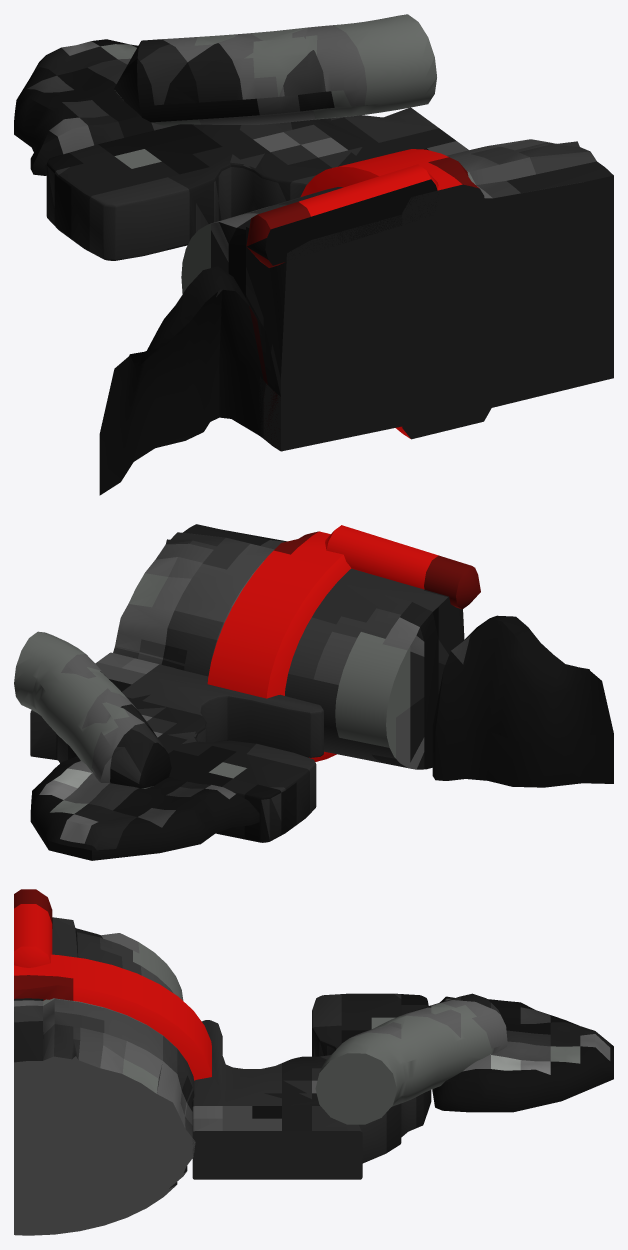
Rendered from station_r_tl_damaged.glb.
3 renders of one model, top to bottom at view 1: azimuth 30°, elevation 25°; view 2: azimuth 150°, elevation 25°; view 3: azimuth 270°, elevation 25°, orthographic. The views are drawn at different scales.
Visible parts, largest first — view 1: station_r_tl_damaged_axle_r, station_r_tl_damaged_web0_r, station_r_tl_damaged_strut_r, station_r_tl_damaged_dock_stub_r, station_r_tl_damaged_red_clamp_r, station_r_tl_damaged_shard_diag_r, station_r_tl_damaged_red_rod_r; view 2: station_r_tl_damaged_axle_r, station_r_tl_damaged_dock_stub_r, station_r_tl_damaged_web0_r, station_r_tl_damaged_shard_diag_r, station_r_tl_damaged_strut_r, station_r_tl_damaged_red_clamp_r, station_r_tl_damaged_red_rod_r; view 3: station_r_tl_damaged_axle_r, station_r_tl_damaged_web0_r, station_r_tl_damaged_strut_r, station_r_tl_damaged_shard_diag_r, station_r_tl_damaged_red_clamp_r, station_r_tl_damaged_red_rod_r.
Boxes of the visible parts, x1,y1,x2,y2 form: station_r_tl_damaged_axle_r: [181, 139, 613, 451]; station_r_tl_damaged_web0_r: [46, 107, 468, 260]; station_r_tl_damaged_strut_r: [114, 14, 436, 126]; station_r_tl_damaged_dock_stub_r: [99, 266, 280, 495]; station_r_tl_damaged_red_clamp_r: [300, 149, 491, 439]; station_r_tl_damaged_shard_diag_r: [14, 39, 167, 175]; station_r_tl_damaged_red_rod_r: [246, 164, 438, 267]; station_r_tl_damaged_axle_r: [113, 524, 464, 769]; station_r_tl_damaged_dock_stub_r: [432, 615, 613, 787]; station_r_tl_damaged_web0_r: [30, 652, 323, 842]; station_r_tl_damaged_shard_diag_r: [30, 756, 259, 860]; station_r_tl_damaged_strut_r: [14, 631, 171, 788]; station_r_tl_damaged_red_clamp_r: [207, 531, 351, 761]; station_r_tl_damaged_red_rod_r: [325, 525, 480, 609]; station_r_tl_damaged_axle_r: [14, 917, 195, 1235]; station_r_tl_damaged_web0_r: [192, 993, 431, 1179]; station_r_tl_damaged_strut_r: [315, 993, 507, 1124]; station_r_tl_damaged_shard_diag_r: [432, 996, 613, 1112]; station_r_tl_damaged_red_clamp_r: [14, 954, 211, 1080]; station_r_tl_damaged_red_rod_r: [14, 889, 52, 967].
Size of the model in its own units: 16.97 by 8.25 by 20.11.
